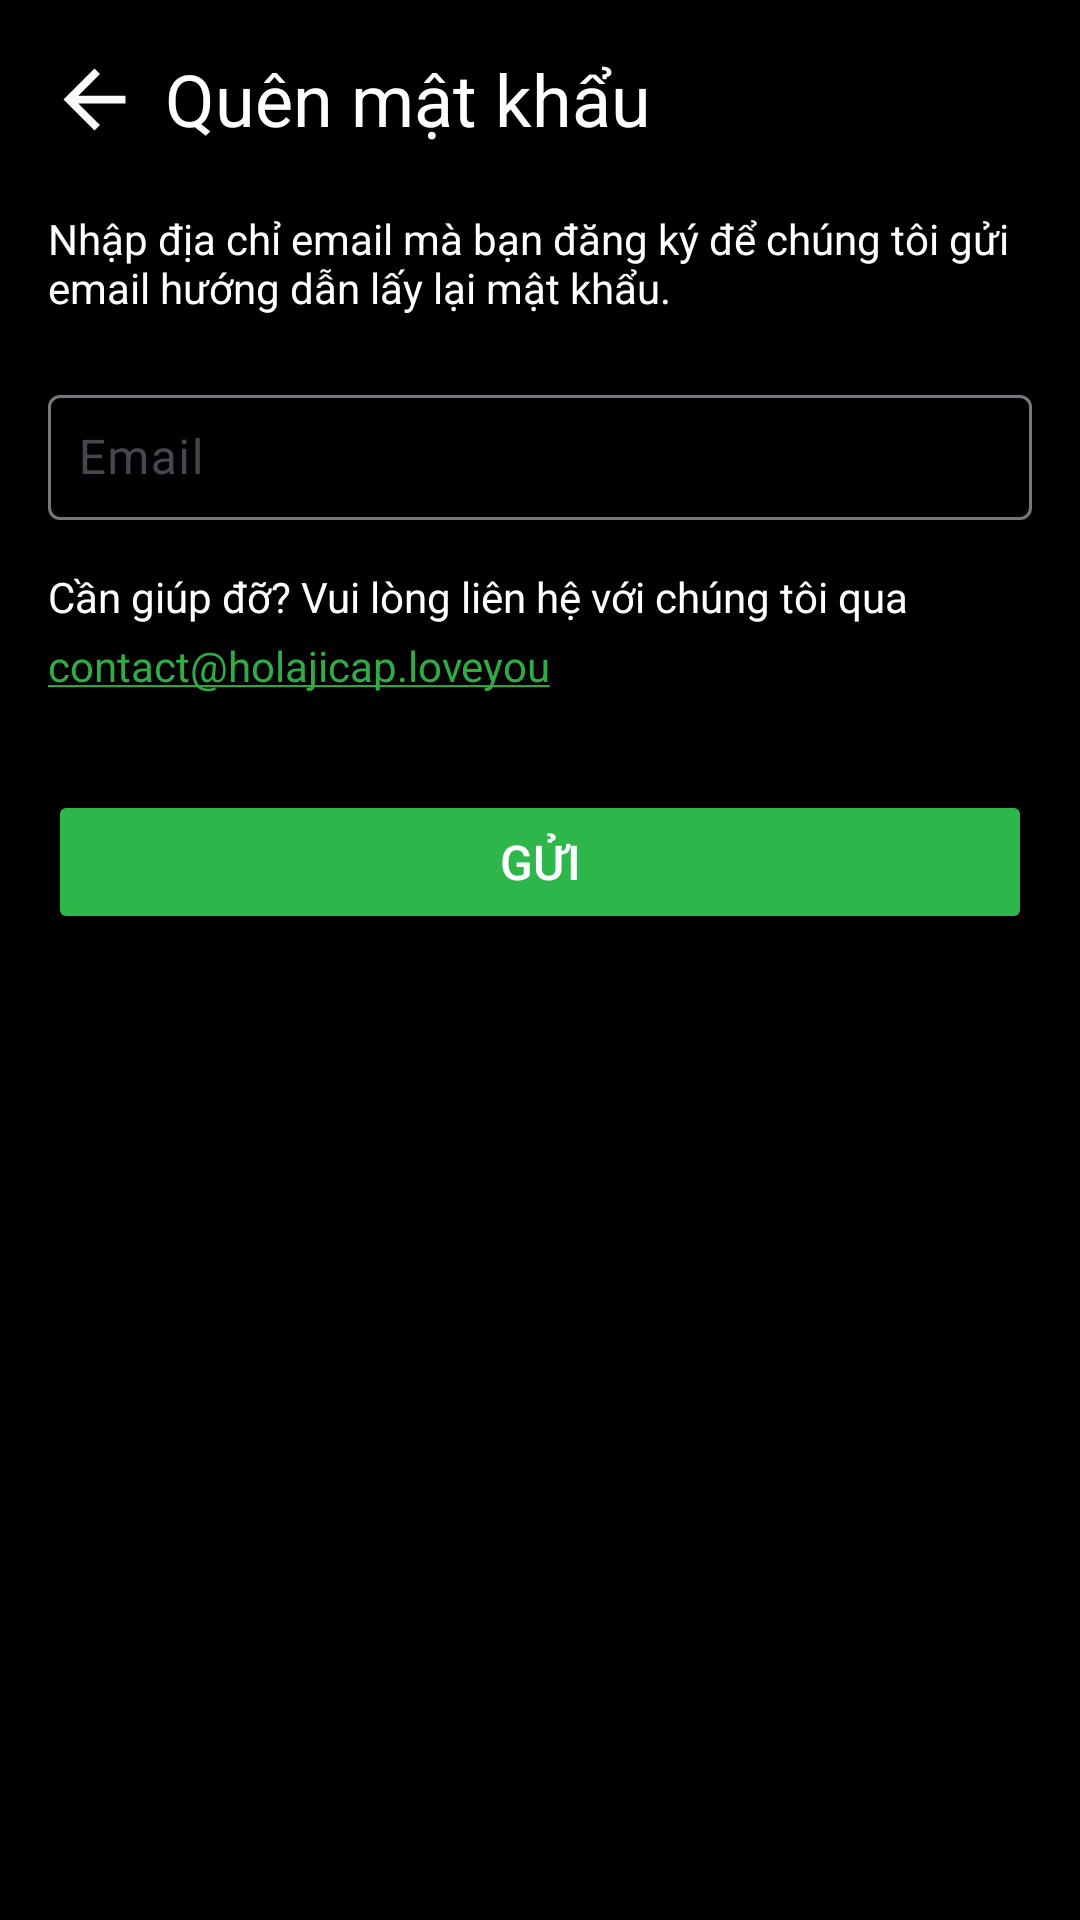

Icons on this 1080px x 1920px Android screen, each with the point to tap as (x=x, y=y):
Back: (x=94, y=99)
